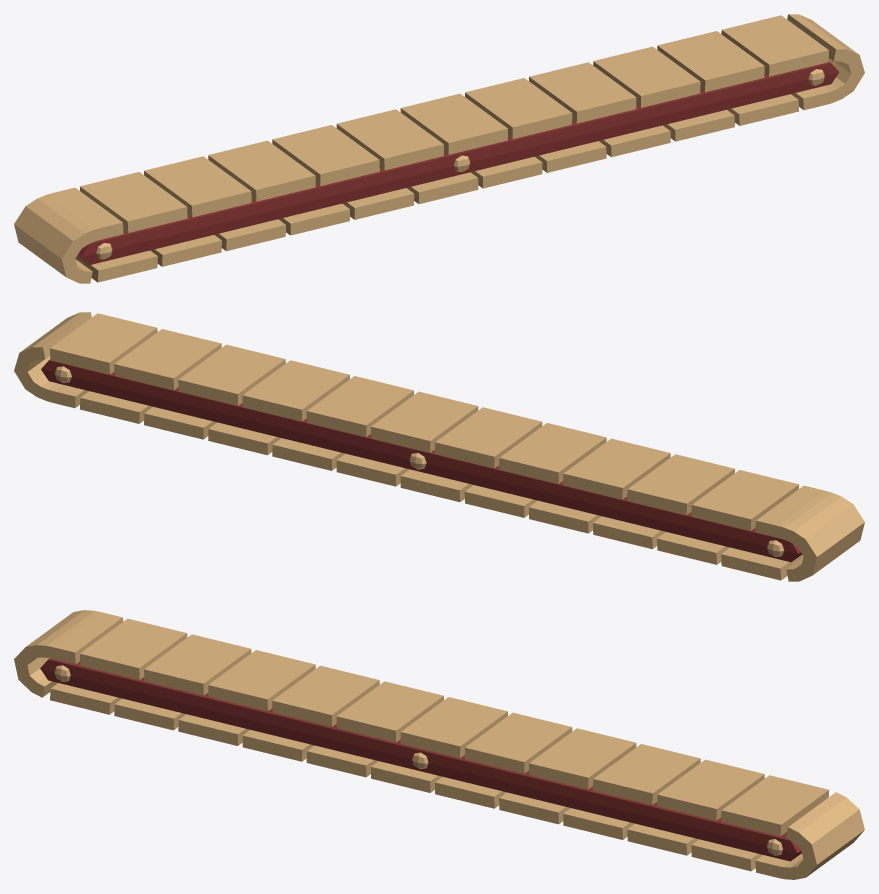
File: Tapis_roulant_droit.fbx
3 views of the same model, one above another, from view 1: azimuth 30°, elevation 25°; view 2: azimuth 150°, elevation 25°; view 3: azimuth 330°, elevation 25° (orthographic).
Visible parts, largest first — view 1: Plane.003, Plane, Plane.004; view 2: Plane.003, Plane, Plane.001; view 3: Plane.003, Plane, Plane.004.
Part boxes in pixels (x1,y1,x2,y2): Plane.003: [14, 14, 864, 283]; Plane: [77, 61, 839, 265]; Plane.004: [96, 69, 824, 259]; Plane.003: [14, 312, 864, 581]; Plane: [41, 359, 801, 562]; Plane.001: [55, 366, 784, 556]; Plane.003: [14, 610, 864, 879]; Plane: [40, 658, 801, 861]; Plane.004: [54, 665, 782, 855].
Bounding box in the file's own units: 3057 × 196 × 316.
